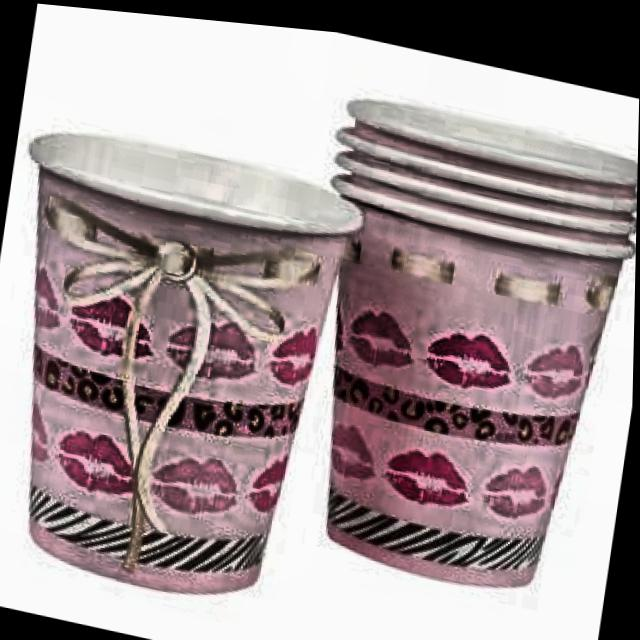Cup: (271, 66, 639, 610), (0, 98, 362, 632)
